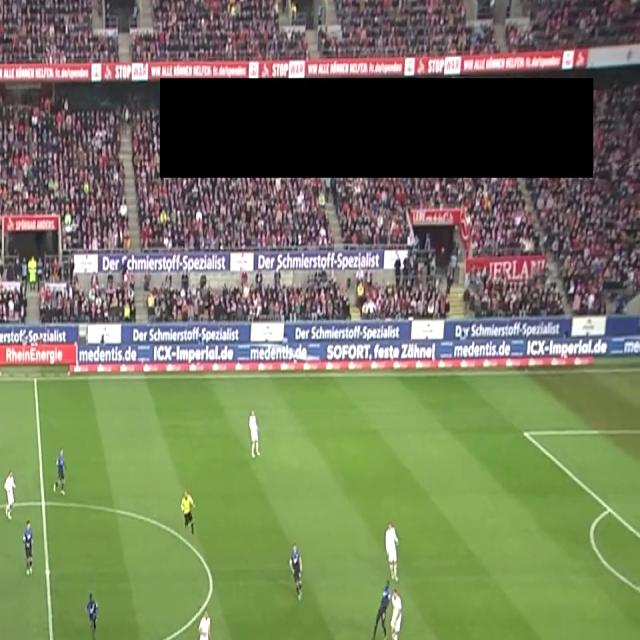referee: (178, 485, 203, 539)
soccer-player: (367, 575, 398, 640), (376, 580, 408, 640), (382, 520, 407, 592), (285, 540, 308, 606), (18, 521, 40, 584), (79, 585, 104, 640), (50, 442, 73, 498), (247, 407, 269, 463), (190, 602, 217, 640), (1, 470, 19, 525), (0, 416, 3, 471)
